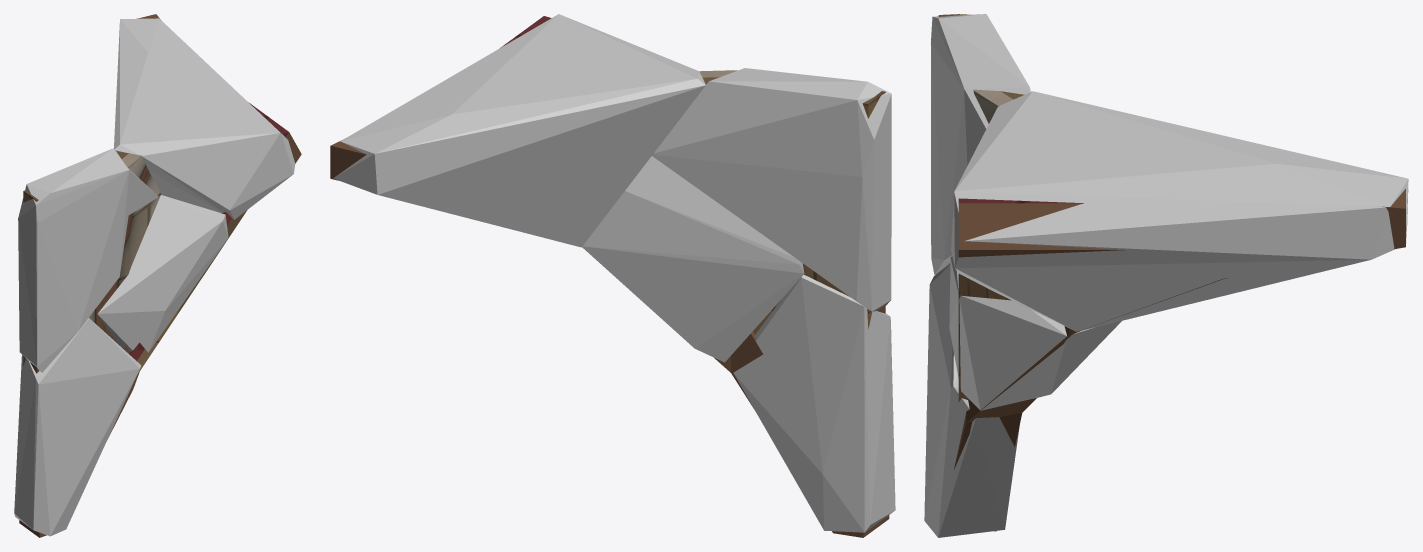
Rendered from SM_Bld_Roof_Straight_Tower_03.fbx.
The picture shows the model from 3 angles, left to right: view 1: azimuth 30°, elevation 25°; view 2: azimuth 150°, elevation 25°; view 3: azimuth 270°, elevation 25°; orthographic projection. The views are drawn at different scales.
Parts seen in each view (by area): view 1: SM_Bld_Roof_Straight_Tower_03_ConvexHulls, SM_Bld_Roof_Straight_Tower_03; view 2: SM_Bld_Roof_Straight_Tower_03_ConvexHulls, SM_Bld_Roof_Straight_Tower_03; view 3: SM_Bld_Roof_Straight_Tower_03_ConvexHulls, SM_Bld_Roof_Straight_Tower_03.
Part boxes in pixels (left/top/right/bottom): SM_Bld_Roof_Straight_Tower_03_ConvexHulls: left=14, top=18, right=295, bottom=536; SM_Bld_Roof_Straight_Tower_03: left=19, top=14, right=301, bottom=537; SM_Bld_Roof_Straight_Tower_03_ConvexHulls: left=333, top=14, right=895, bottom=532; SM_Bld_Roof_Straight_Tower_03: left=330, top=16, right=889, bottom=537; SM_Bld_Roof_Straight_Tower_03_ConvexHulls: left=924, top=14, right=1408, bottom=537; SM_Bld_Roof_Straight_Tower_03: left=938, top=14, right=1405, bottom=531.
Bounding box in the file's own units: 272 × 271 × 319.
5 materials, 4 textured.
